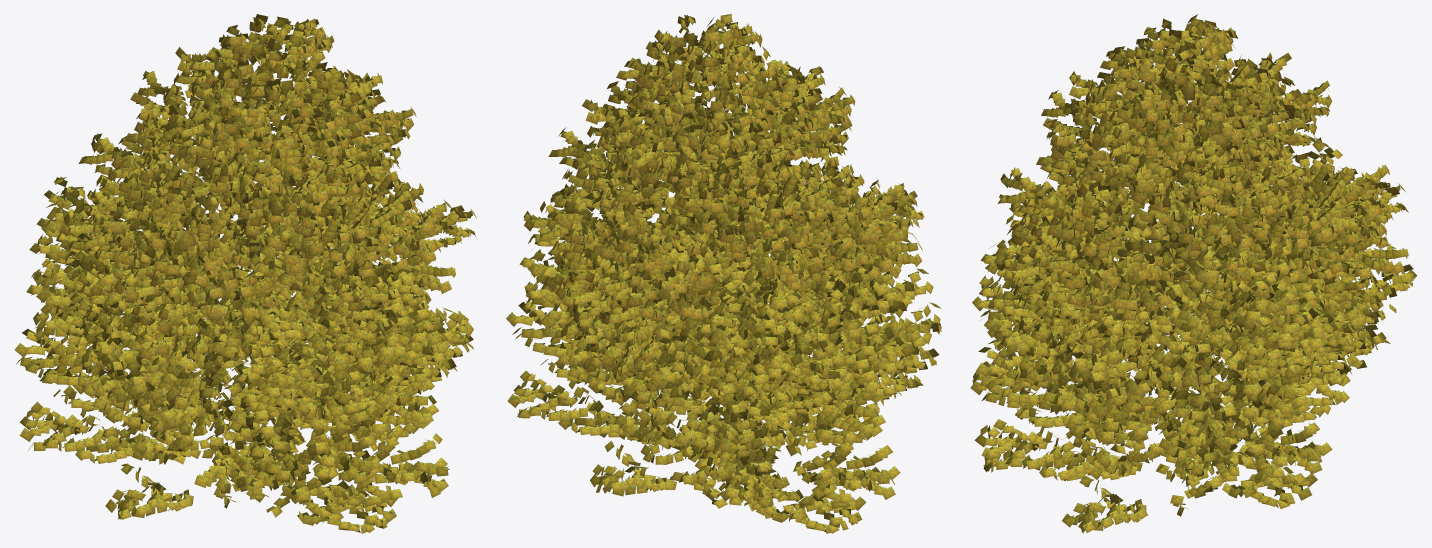
The model's file is crown8.obj.
3 views of the same model, side by side, from view 1: azimuth 30°, elevation 25°; view 2: azimuth 150°, elevation 25°; view 3: azimuth 270°, elevation 25° (orthographic).
Visible parts, largest first — view 1: Leaf02_8, Leaf03_8; view 2: Leaf02_8, Leaf03_8; view 3: Leaf02_8, Leaf03_8.
Part boxes in pixels (<box>): Leaf02_8: <box>14,18,475,533</box>; Leaf03_8: <box>60,14,476,387</box>; Leaf02_8: <box>506,15,941,533</box>; Leaf03_8: <box>524,14,922,375</box>; Leaf02_8: <box>970,17,1417,533</box>; Leaf03_8: <box>998,14,1408,369</box>.
Bounding box in the file's own units: 8.02 × 10.02 × 8.21.
Materials: 2 (2 with a texture image).
